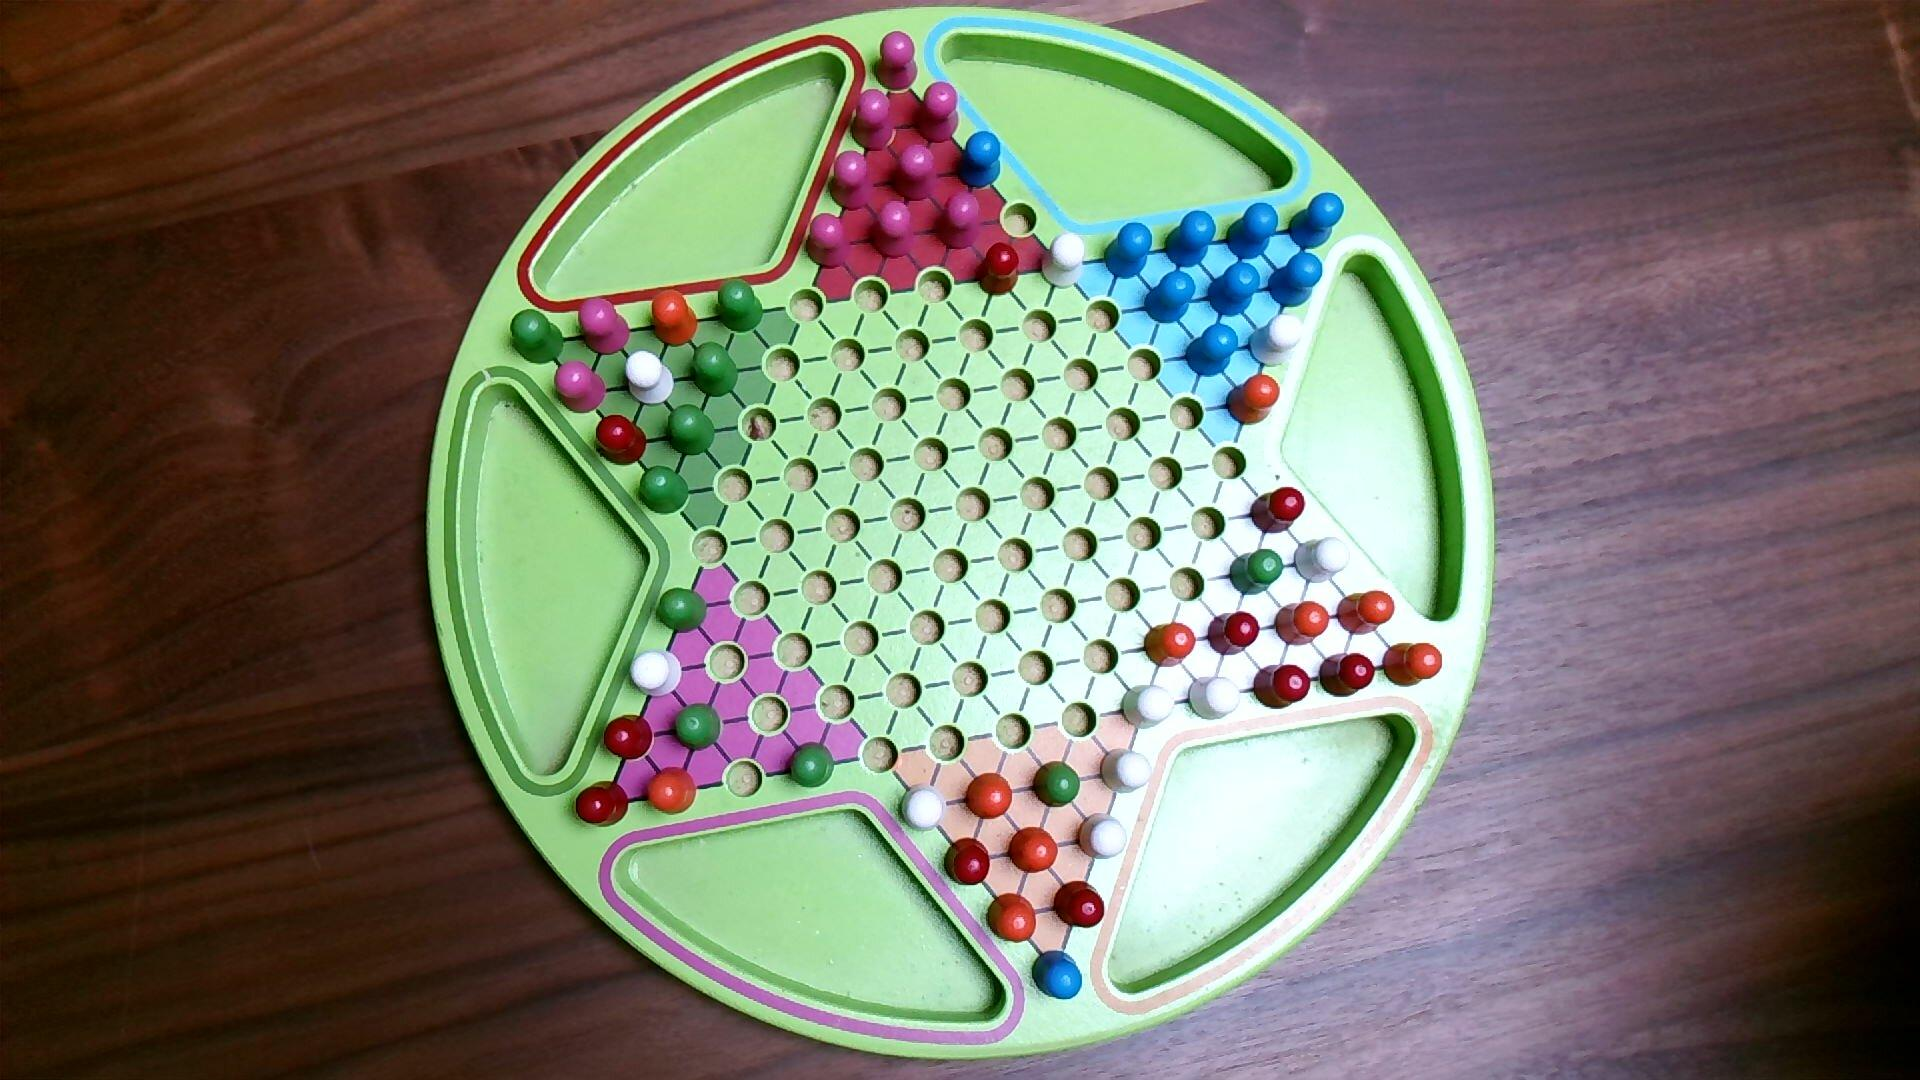B: (1286, 191, 1346, 252), (1266, 252, 1325, 310), (1183, 322, 1241, 380), (1224, 202, 1280, 261), (1163, 210, 1218, 270), (1207, 260, 1262, 319), (1143, 268, 1197, 326), (1102, 222, 1154, 281), (953, 131, 1002, 191), (1031, 949, 1085, 1002)
G: (506, 309, 567, 367), (688, 340, 741, 400), (713, 277, 765, 336), (665, 404, 717, 459), (1228, 547, 1286, 597), (637, 465, 692, 517), (785, 738, 837, 791), (670, 702, 724, 753), (654, 585, 709, 636), (1031, 760, 1083, 810)
O: (1225, 372, 1282, 429), (649, 287, 700, 349), (1335, 589, 1396, 638), (1382, 641, 1445, 688), (984, 891, 1039, 945), (644, 766, 698, 818), (1273, 600, 1331, 647), (1007, 827, 1062, 876), (1143, 621, 1197, 670), (964, 773, 1015, 822)
R: (593, 413, 649, 468), (1249, 485, 1308, 535), (1251, 663, 1313, 711), (574, 779, 632, 829), (1317, 651, 1378, 699), (975, 241, 1021, 299), (603, 713, 655, 764), (1054, 880, 1106, 930), (1205, 611, 1261, 658), (942, 837, 993, 887)
R2: (578, 295, 633, 357), (848, 88, 898, 156), (886, 142, 940, 204), (931, 189, 984, 252), (825, 149, 877, 214), (913, 80, 963, 146), (866, 198, 916, 262), (872, 29, 920, 94), (553, 360, 608, 415), (803, 211, 853, 272)
W: (1247, 313, 1305, 371), (626, 647, 684, 700), (624, 349, 676, 407), (1294, 535, 1353, 585), (1038, 231, 1087, 291), (1075, 812, 1130, 862), (1120, 684, 1178, 732), (1187, 675, 1244, 723), (1098, 748, 1154, 795), (897, 783, 948, 833)
